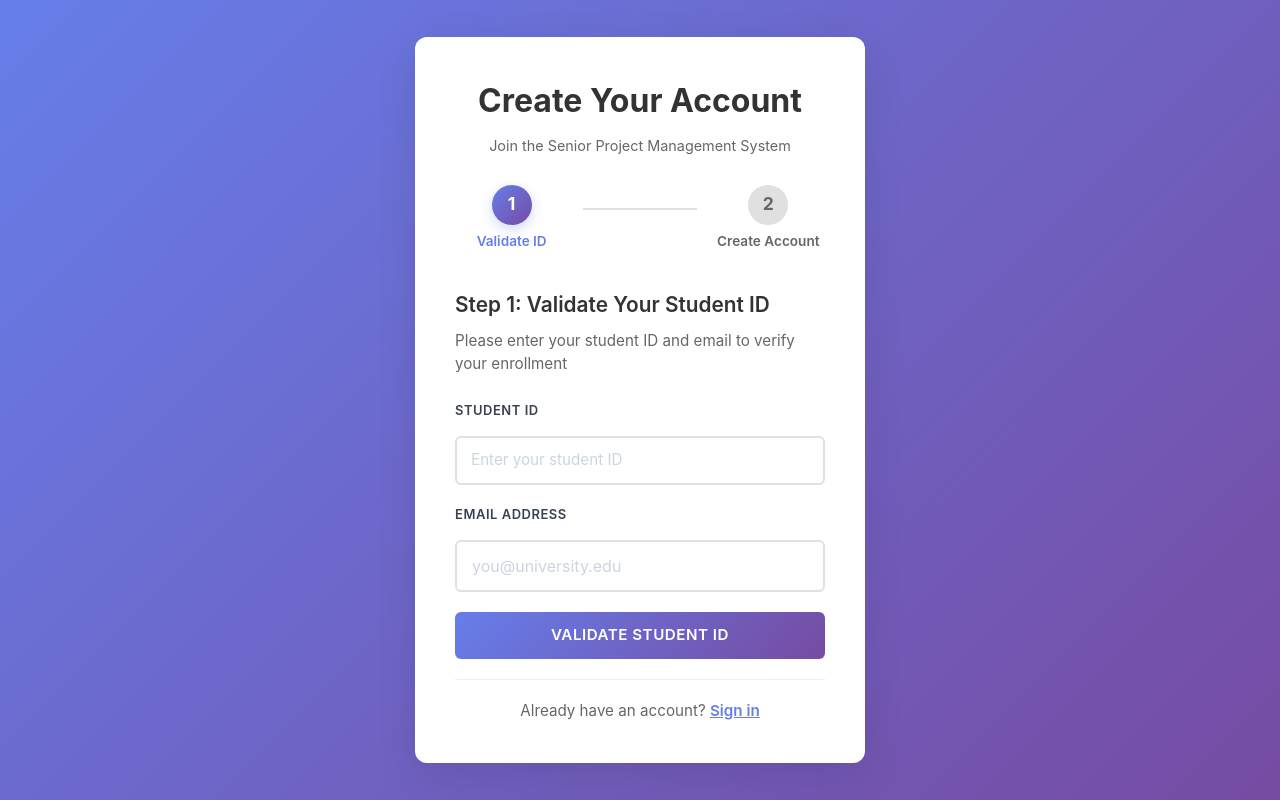
Scenario: RegisterForm (Two-Step Registration) › Step 1: Student ID Validation › shows field errors when fields are empty and submit is clicked
The width and height of the screenshot is (1280, 800).
Click the button "Validate Student ID".
click(640, 636)  # box top-left (455, 612), bottom-right (825, 659)
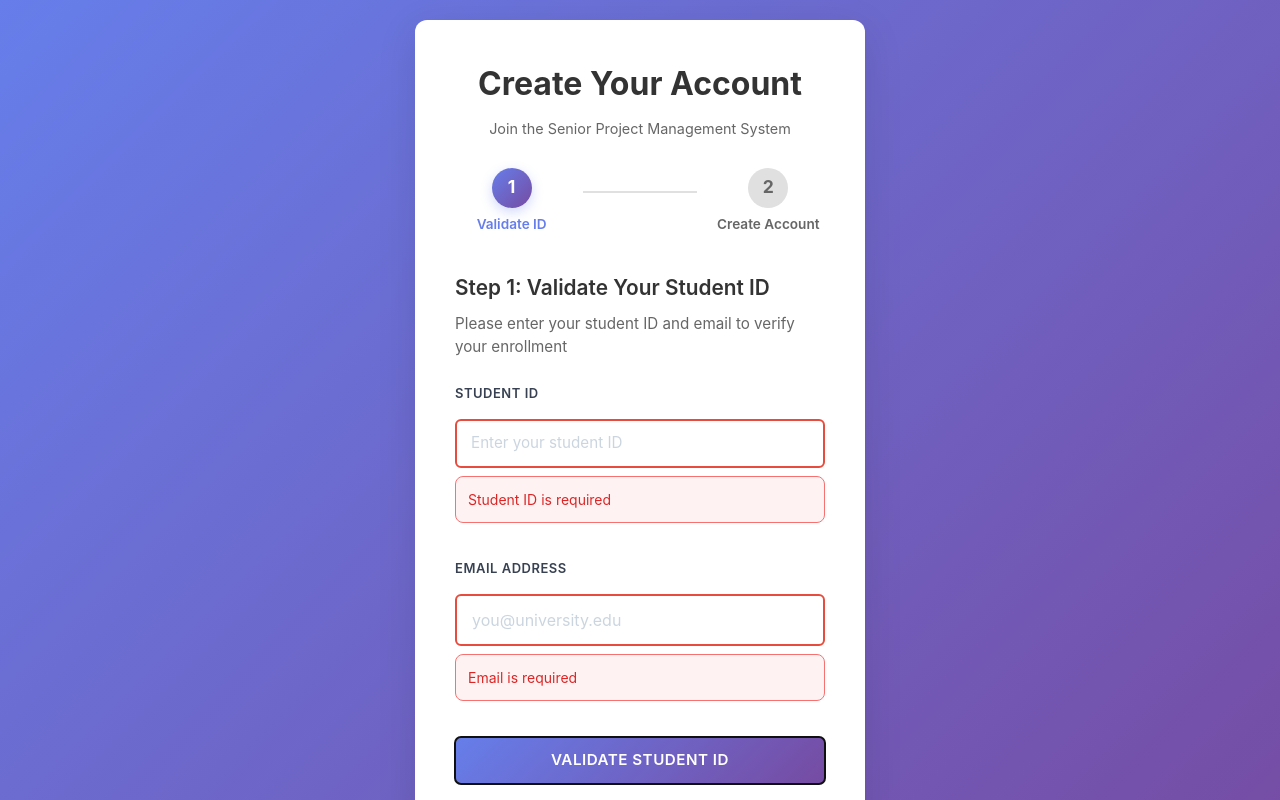
Expected: the text "Student ID is required" is shown, top-left (455, 476), bottom-right (825, 523)
